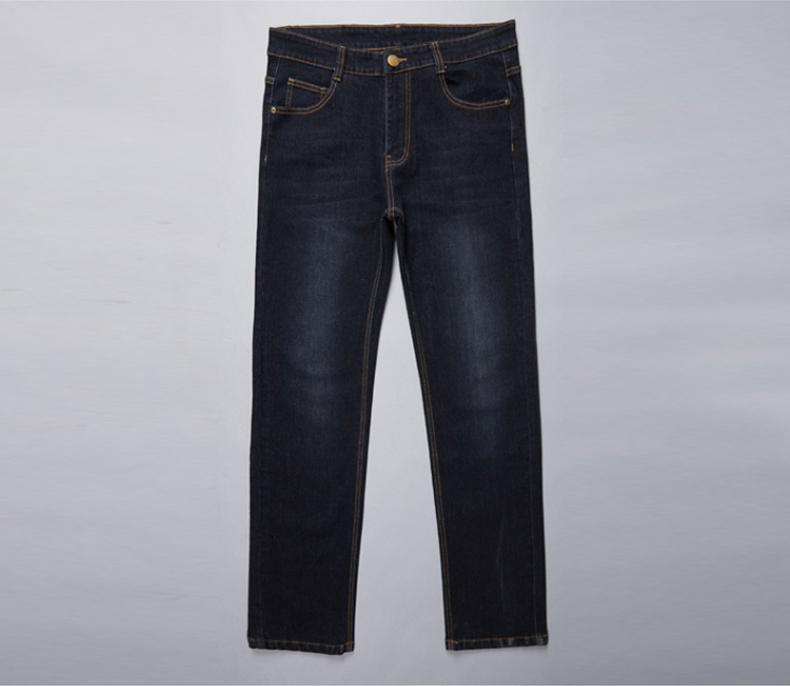jeans: (234, 12, 539, 648)
